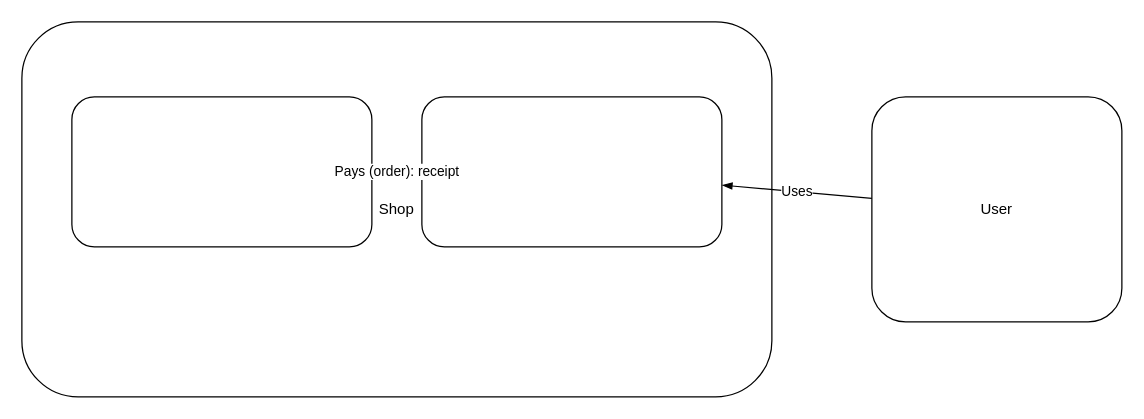
Some shapes in this 1144 by 419 pixel diagram are drawn without their labels. Each missing label, with the centre of its shape:
"Payments" goes at [221,171].
"Web" goes at [571,171].
